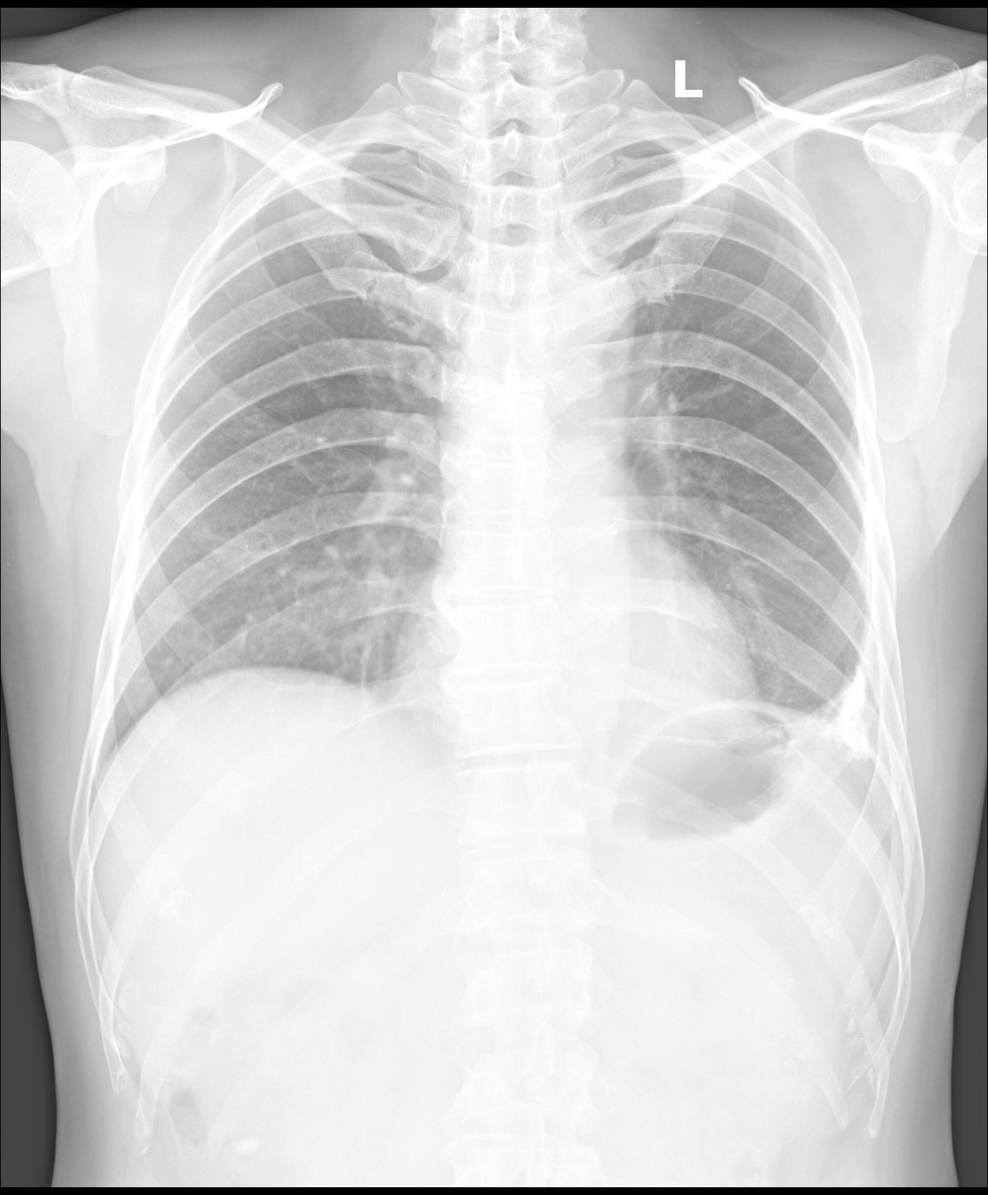Aortic enlargement: (514, 251, 634, 355)
Pleural thickening: (834, 602, 909, 805), (584, 136, 720, 162)
